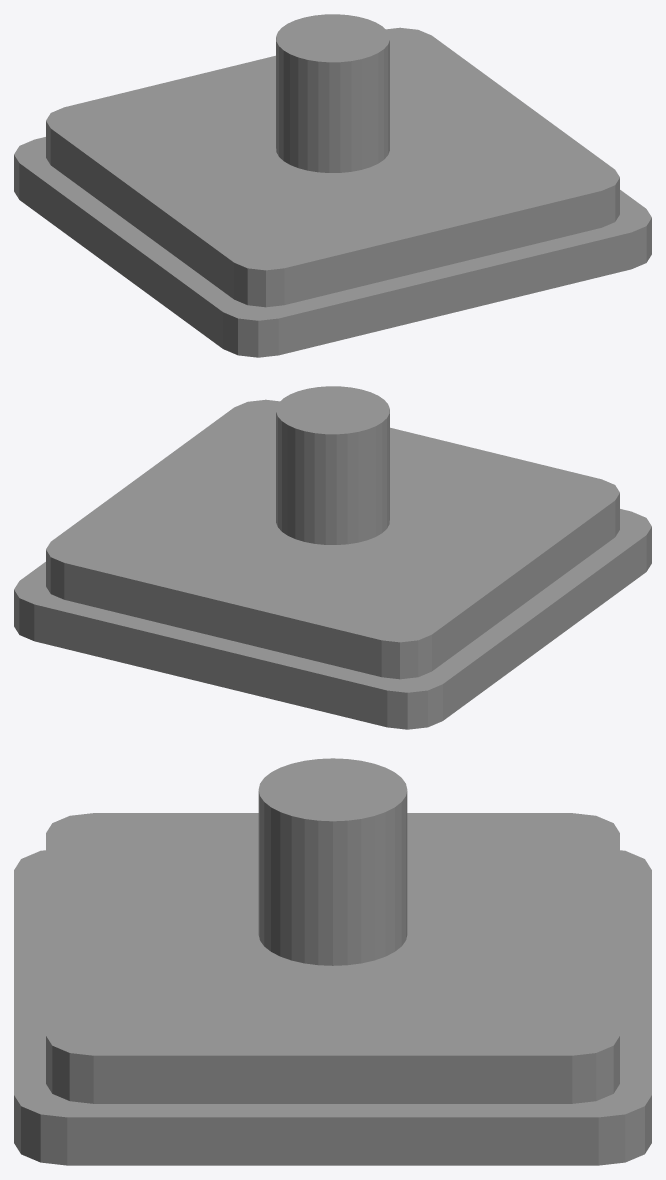
Rendered from CrankBase.gltf.
3 renders of one model, top to bottom at view 1: azimuth 30°, elevation 25°; view 2: azimuth 150°, elevation 25°; view 3: azimuth 270°, elevation 25°, orthographic. The views are drawn at different scales.
Parts seen in each view (by area): view 1: Circle; view 2: Circle; view 3: Circle.
Boxes of the visible parts, x1,y1,x2,y2 form: Circle: (14, 14, 651, 357); Circle: (14, 386, 651, 729); Circle: (14, 758, 651, 1165).
Size of the model in its own units: 1.2 by 0.5 by 1.2.
Materials: 1 (1 with a texture image).
